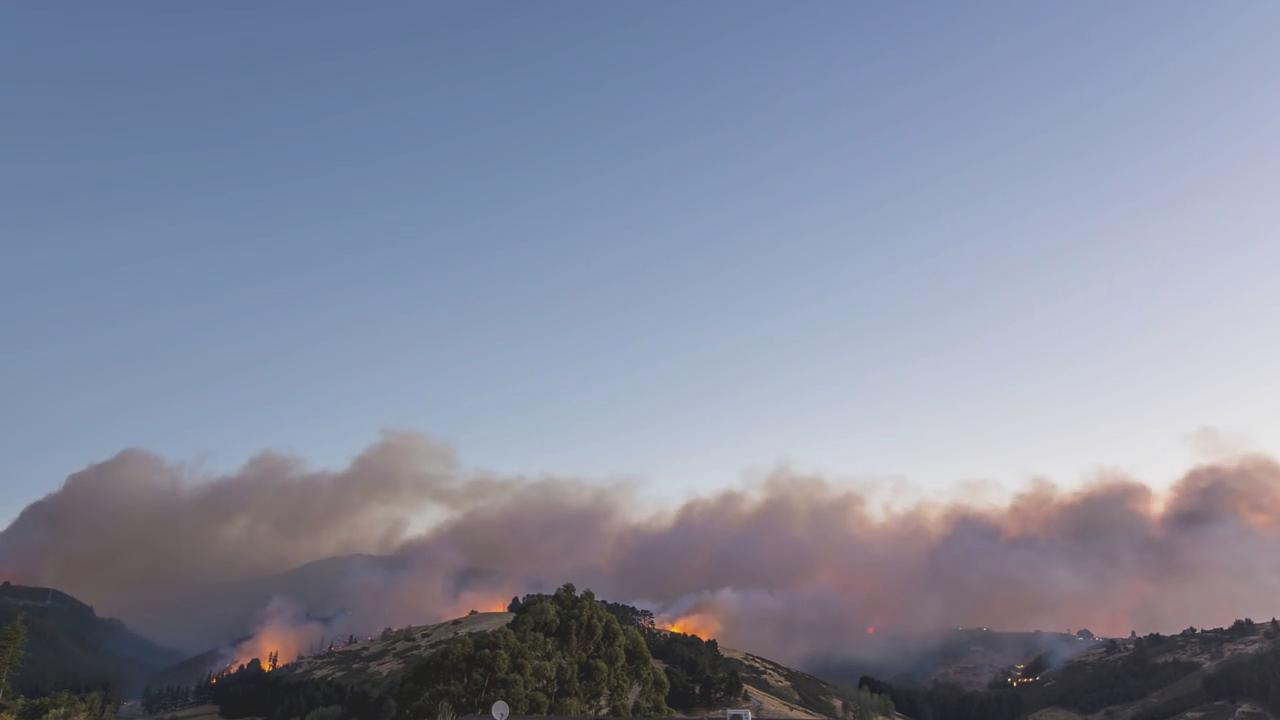fire: (214, 644, 284, 679), (663, 617, 725, 644), (1005, 661, 1041, 688), (484, 602, 509, 615)
